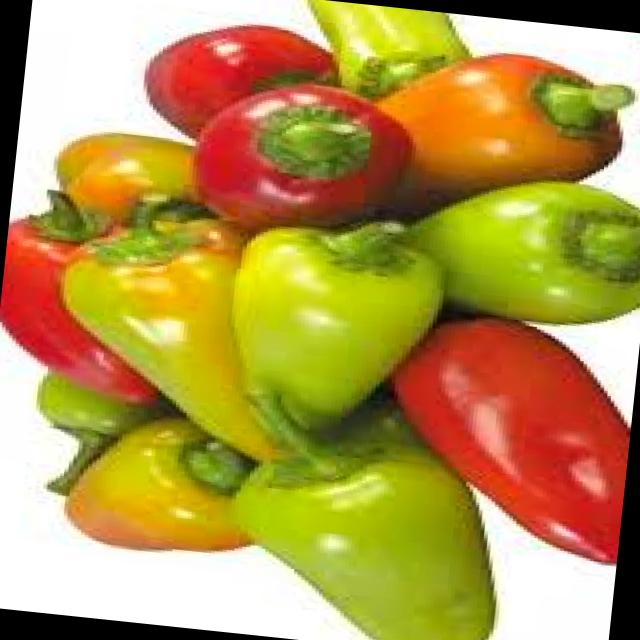Bell pepper: (354, 316, 640, 574), (60, 202, 302, 458), (221, 434, 518, 640), (214, 199, 436, 470), (350, 37, 640, 234), (178, 65, 422, 254), (394, 167, 640, 338), (47, 408, 308, 566), (0, 206, 163, 412), (130, 0, 347, 152), (38, 111, 225, 242), (284, 0, 471, 121), (18, 371, 136, 482)
